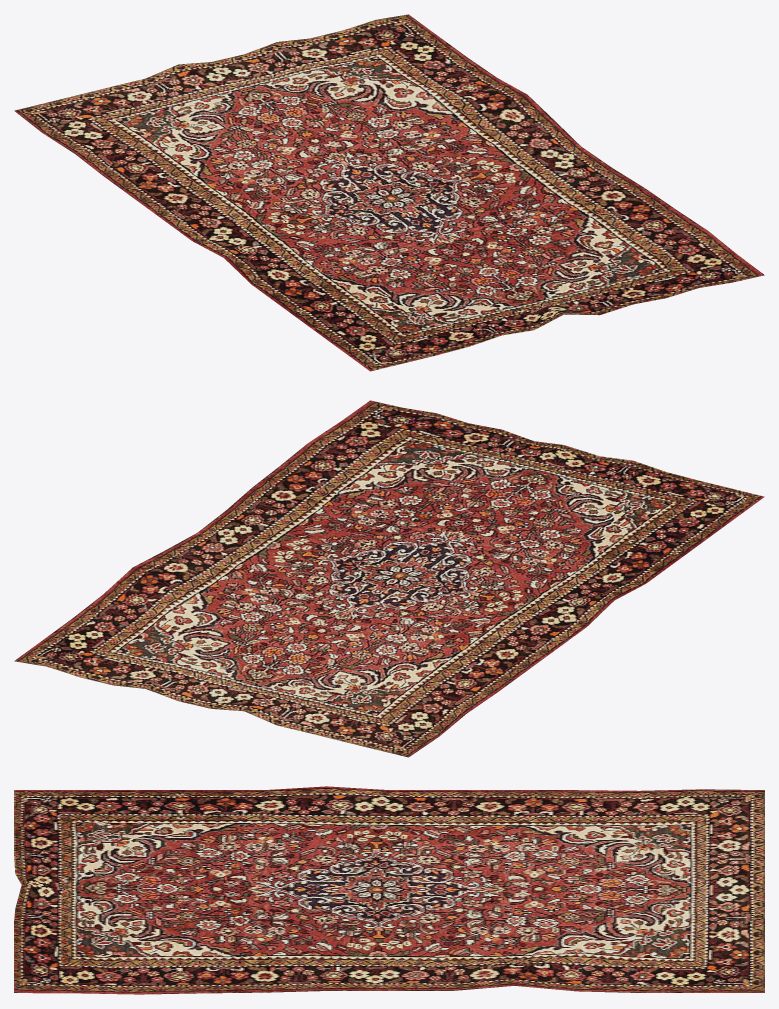
The model's file is AIR0110012.fbx.
3 renders of one model, top to bottom at view 1: azimuth 30°, elevation 25°; view 2: azimuth 150°, elevation 25°; view 3: azimuth 270°, elevation 25°, orthographic. The views are drawn at different scales.
Visible parts, largest first — view 1: smAIR0110012; view 2: smAIR0110012; view 3: smAIR0110012.
Boxes of the visible parts, left/top/right/bottom form: smAIR0110012: left=14, top=14, right=764, bottom=371; smAIR0110012: left=14, top=400, right=764, bottom=757; smAIR0110012: left=14, top=786, right=764, bottom=994.
Bounding box in the file's own units: 254 × 4.52 × 392.
Materials: 1 (1 with a texture image).
